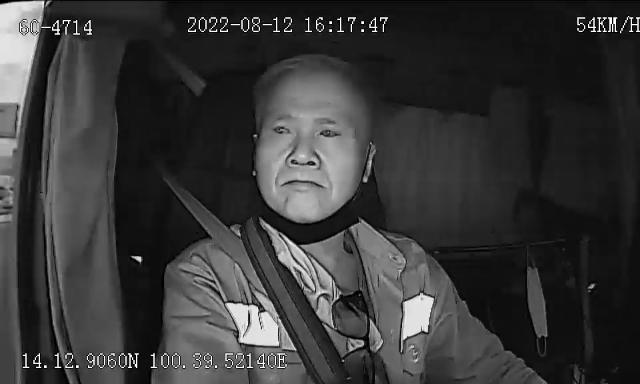SafeDriving: (264, 114, 300, 142), (310, 118, 347, 144)
Seatbelt: (186, 200, 384, 384)
